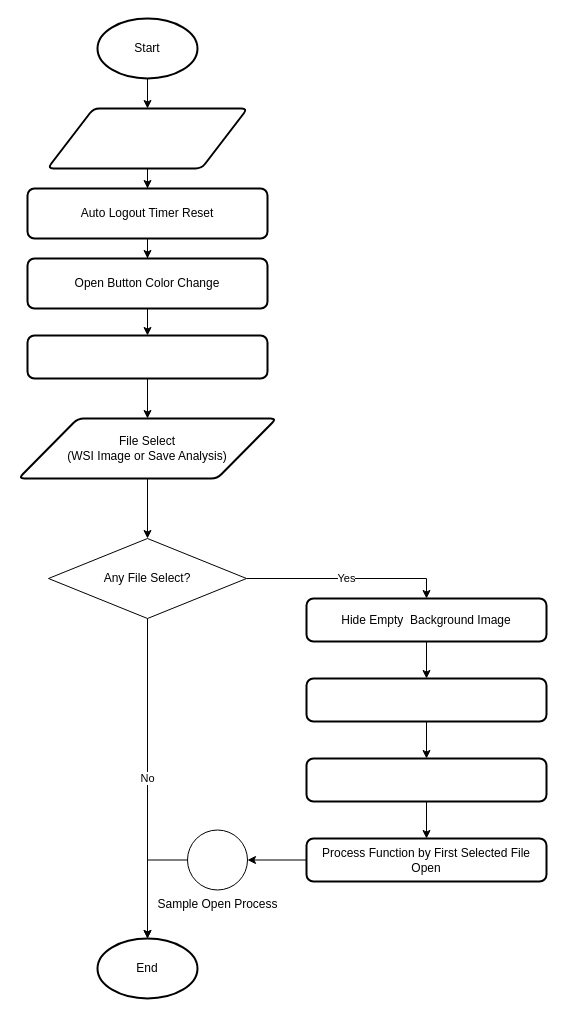
Image size: 564x1016. Some labels were removed from this diagram. The centre of each missing label's shape, as x and y in pixels:
Display Selected Files at "File Name" List: point 426,699
Open Button Click: point 147,138
Open Popup for File Select: point 147,356
Select the first file in the "File Name" list: point 426,779
